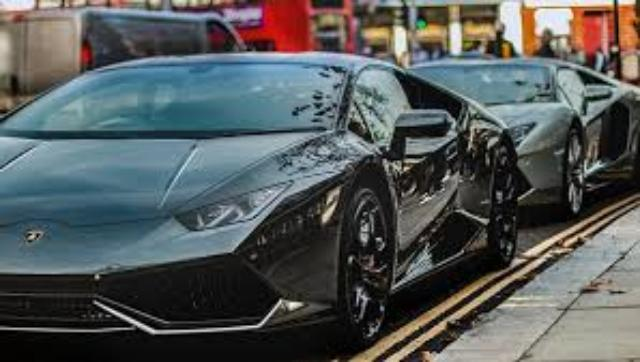lamborghini: (1, 52, 520, 346), (406, 56, 640, 216)
